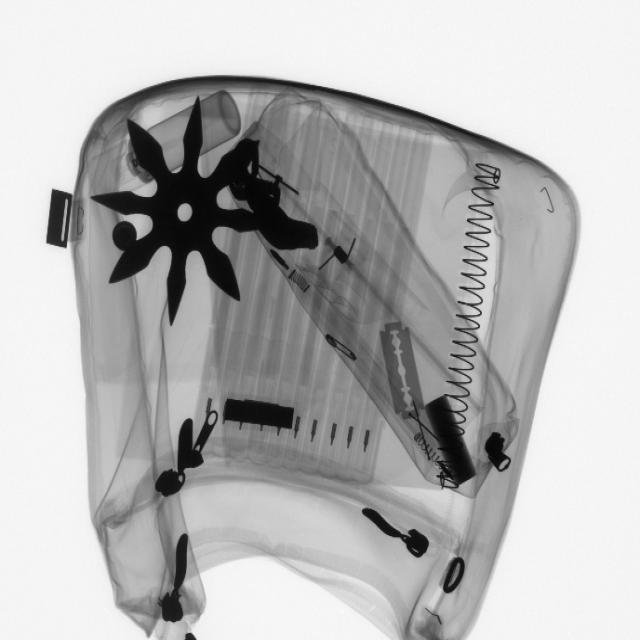BLADE: (375, 315, 427, 426)
SHURIKEN: (93, 98, 279, 329)
